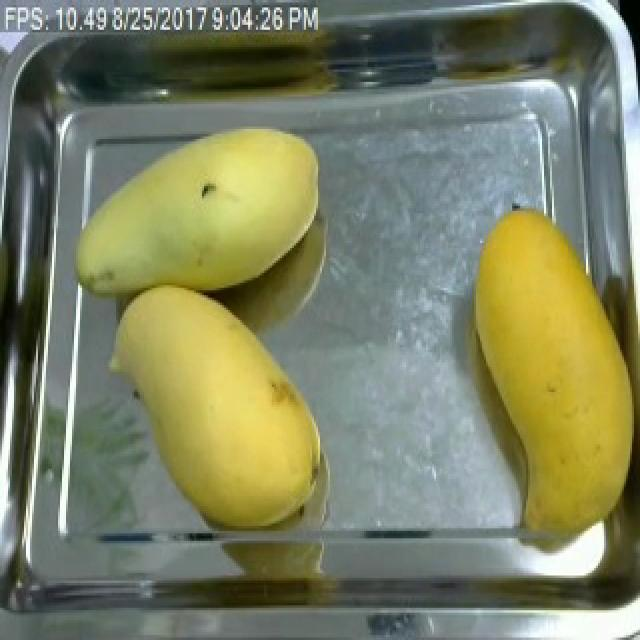fruit: (458, 203, 640, 568), (100, 273, 332, 538), (66, 116, 330, 308)
